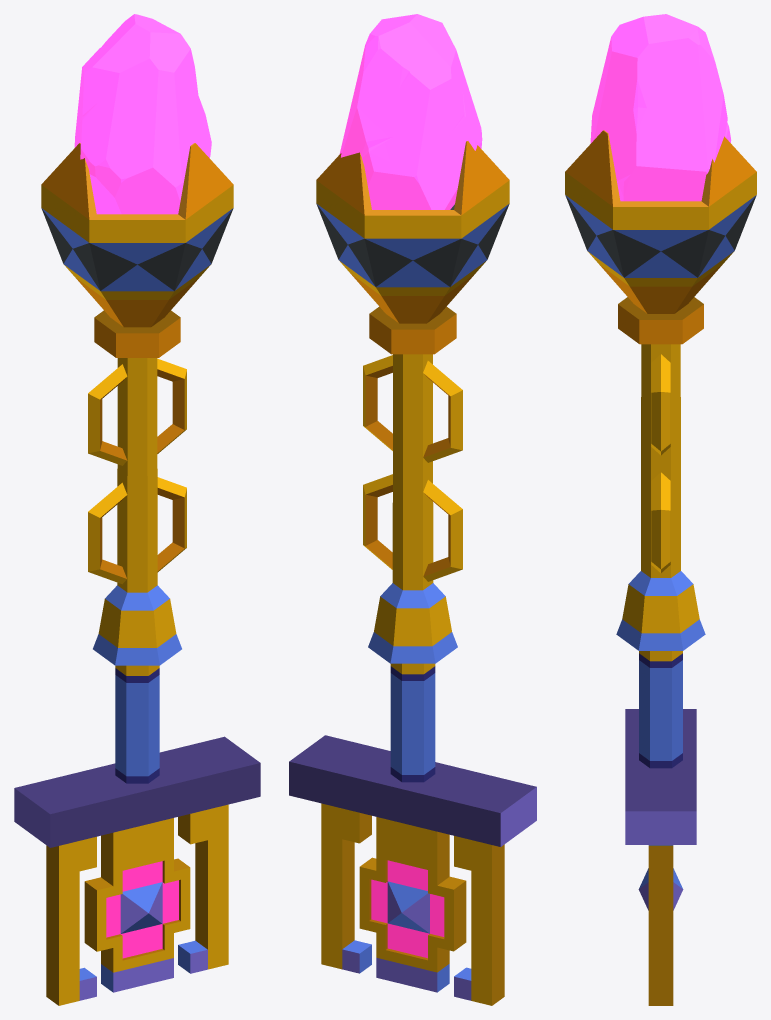
The model's file is key.glb.
3 views of the same model, side by side, from view 1: azimuth 30°, elevation 25°; view 2: azimuth 150°, elevation 25°; view 3: azimuth 270°, elevation 25° (orthographic).
Visible parts, largest first — view 1: FantasyKey_Gem; view 2: FantasyKey_Gem; view 3: FantasyKey_Gem.
Boxes of the visible parts, x1,y1,x2,y2 form: FantasyKey_Gem: (14,14,260,1005); FantasyKey_Gem: (289,14,536,1005); FantasyKey_Gem: (565,14,756,1005).
Size of what is drawn, in the model's own units: 0.2093 by 0.9075 by 0.1658.
1 material, 1 textured.
